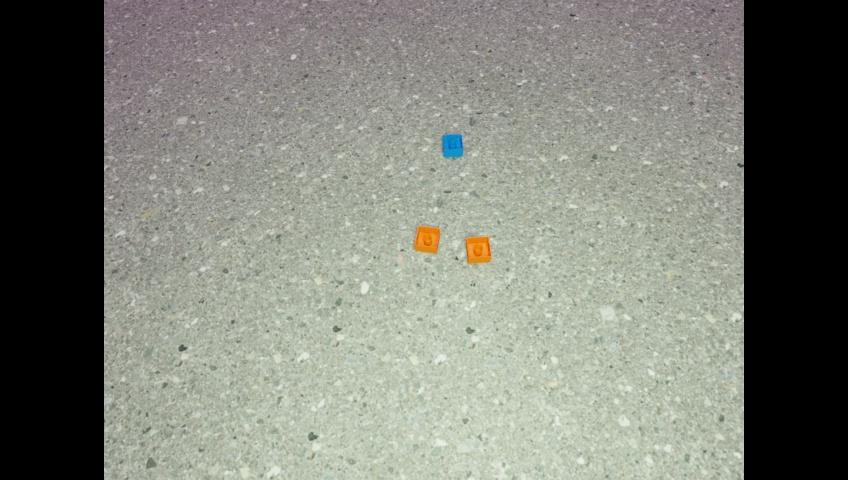2x2_blue: (442, 133, 462, 157)
2x2_orange: (465, 235, 491, 264), (415, 225, 439, 253)
